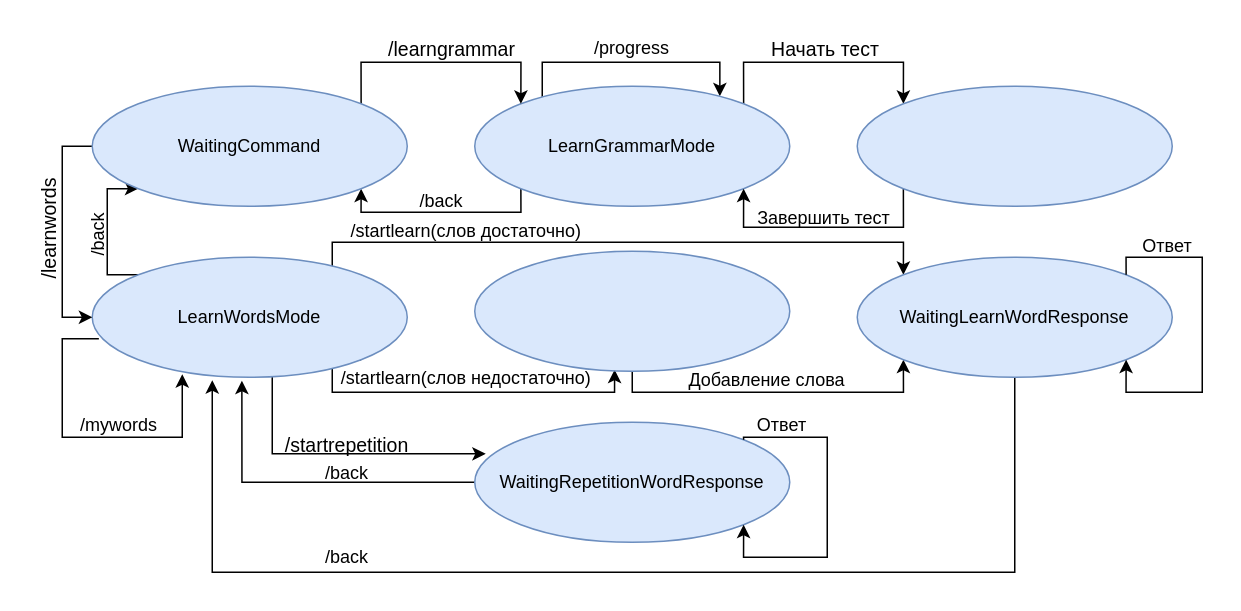
Some shapes in this 1241 by 611 pixel diagram are drawn without their labels. The centre of each missing label's shape, as x and y in pixels:
GrammarTestInProgress: (1014,145)
WaitingNewWord: (631,310)
